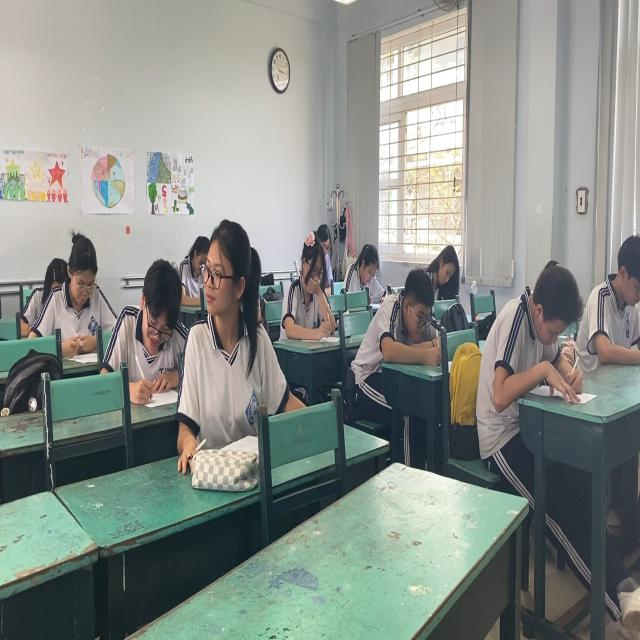cheating: (185, 219, 268, 427)
not_cheating: (471, 261, 566, 388), (23, 230, 109, 344), (101, 258, 182, 374), (271, 222, 346, 337), (374, 268, 444, 358), (350, 233, 389, 302), (428, 240, 463, 291)
